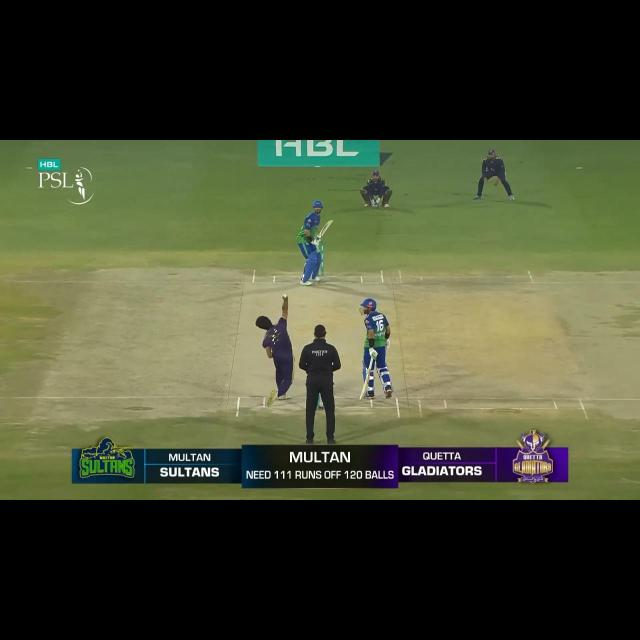bat: (359, 375, 371, 399), (318, 220, 333, 238)
toe: (358, 390, 366, 400), (327, 220, 332, 227)
